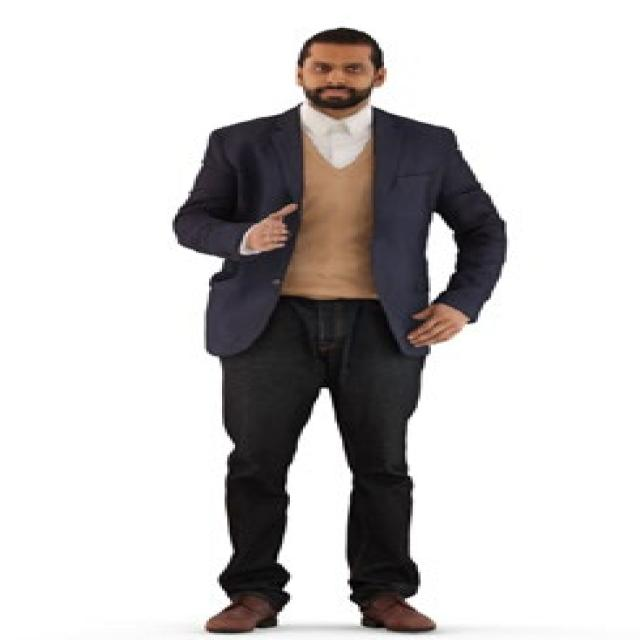standing: (168, 24, 514, 638)
